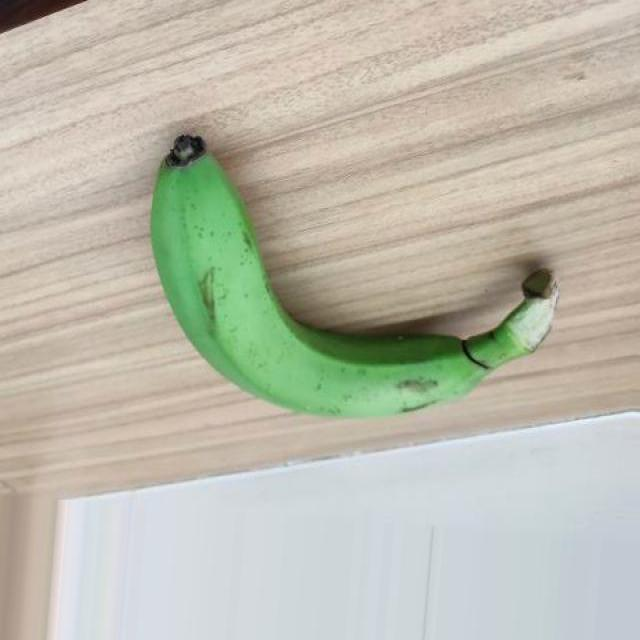Unripe: (149, 131, 560, 420)
